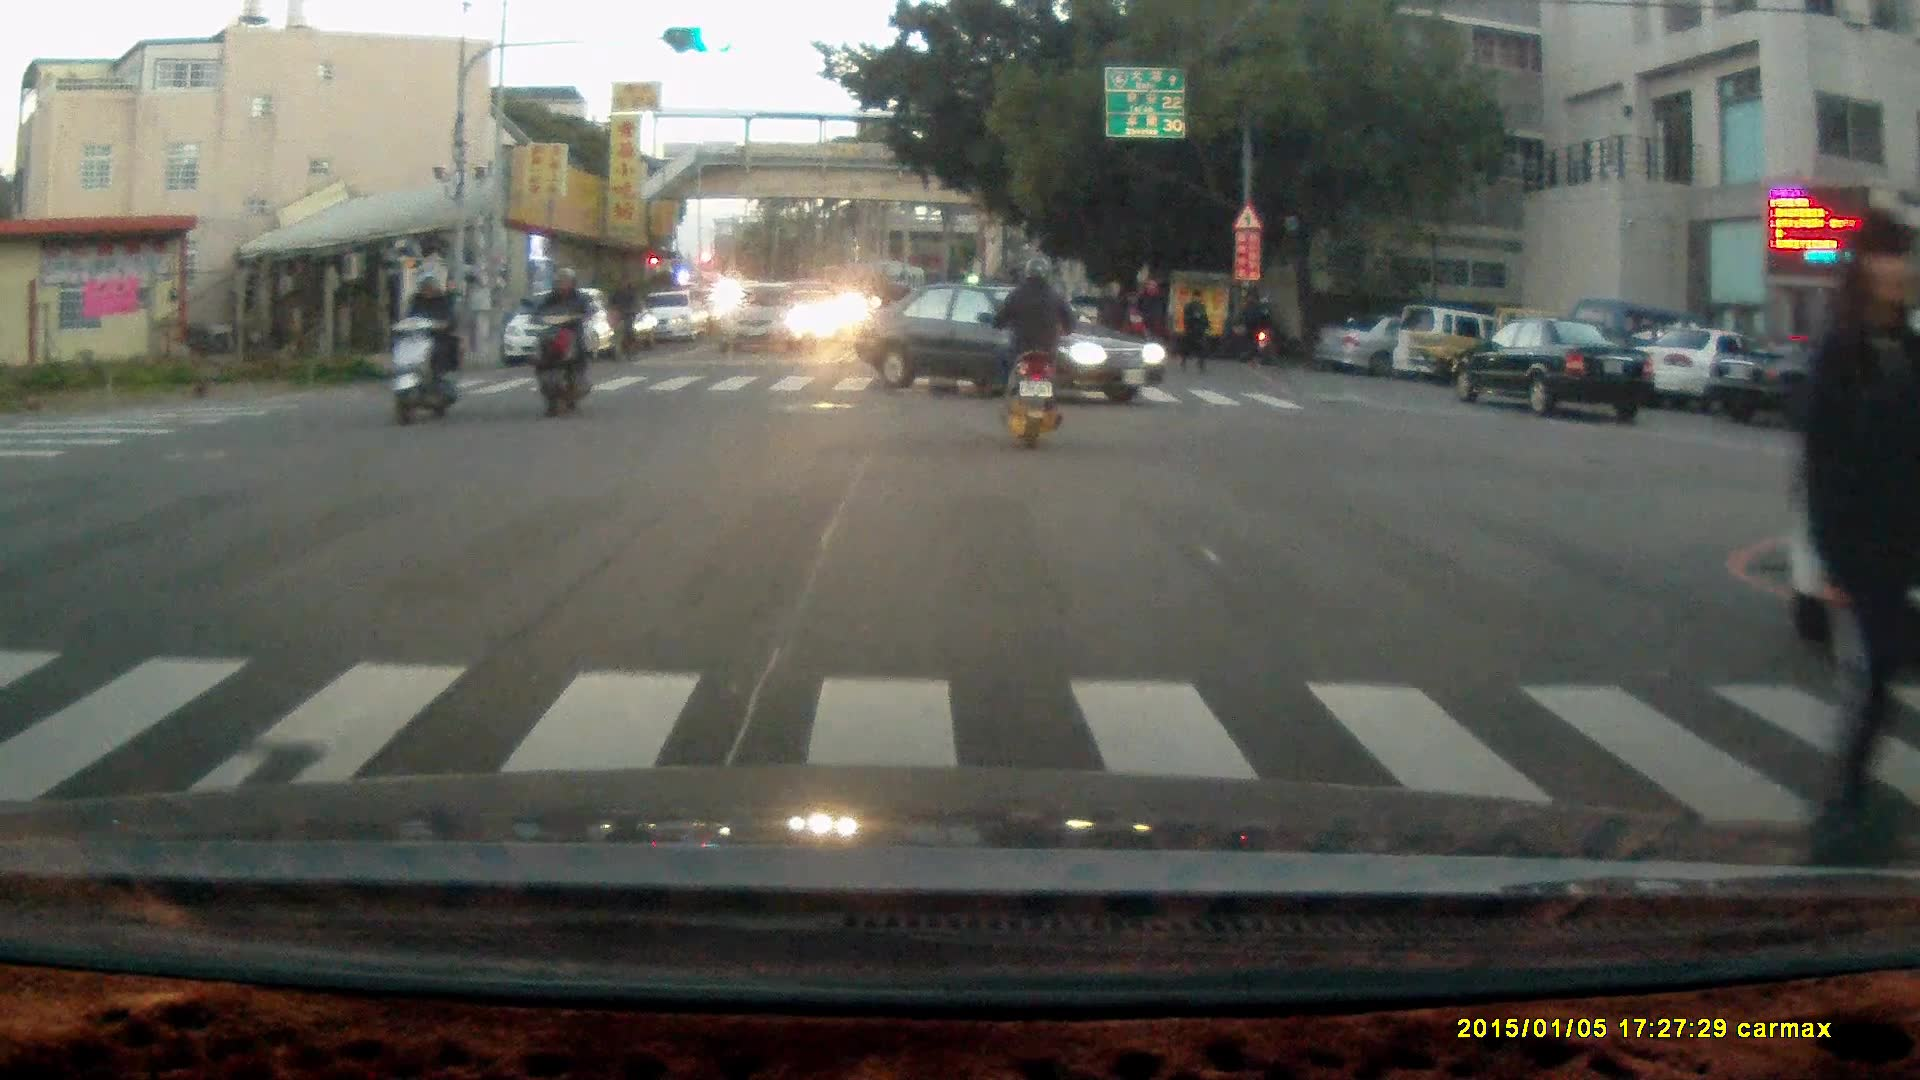pedestrian: (1777, 207, 1915, 843), (1178, 285, 1211, 378), (1131, 274, 1166, 363), (1098, 280, 1128, 362), (1238, 288, 1269, 365)
rider: (991, 254, 1077, 448), (388, 265, 463, 428), (522, 264, 595, 420), (604, 270, 643, 366)
vehicle: (848, 274, 1167, 406), (1458, 316, 1662, 419), (1621, 322, 1809, 414), (1314, 311, 1495, 371), (505, 288, 624, 367), (719, 281, 816, 359)
